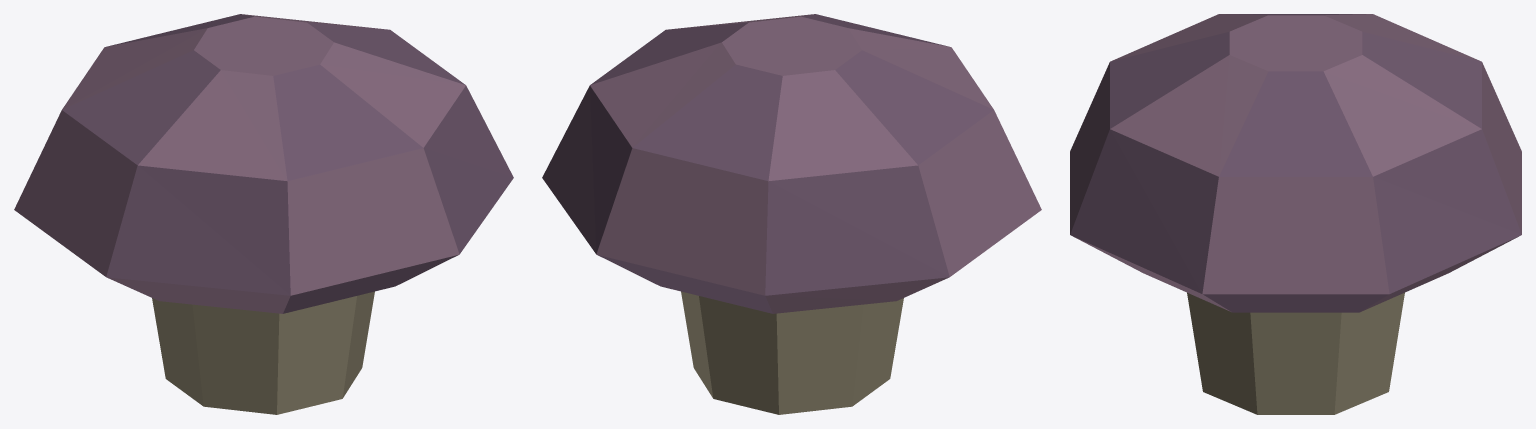
Rendered from plump_helmet.glb.
3 renders of one model, left to right at view 1: azimuth 30°, elevation 25°; view 2: azimuth 150°, elevation 25°; view 3: azimuth 270°, elevation 25°, orthographic.
Parts seen in each view (by area): view 1: plump_helmet; view 2: plump_helmet; view 3: plump_helmet.
Part boxes in pixels (x1,y1,x2,y2): plump_helmet: [14, 14, 513, 414]; plump_helmet: [542, 14, 1041, 414]; plump_helmet: [1070, 14, 1521, 414].
Size of the model in its own units: 0.6652 by 0.51 by 0.6282.
